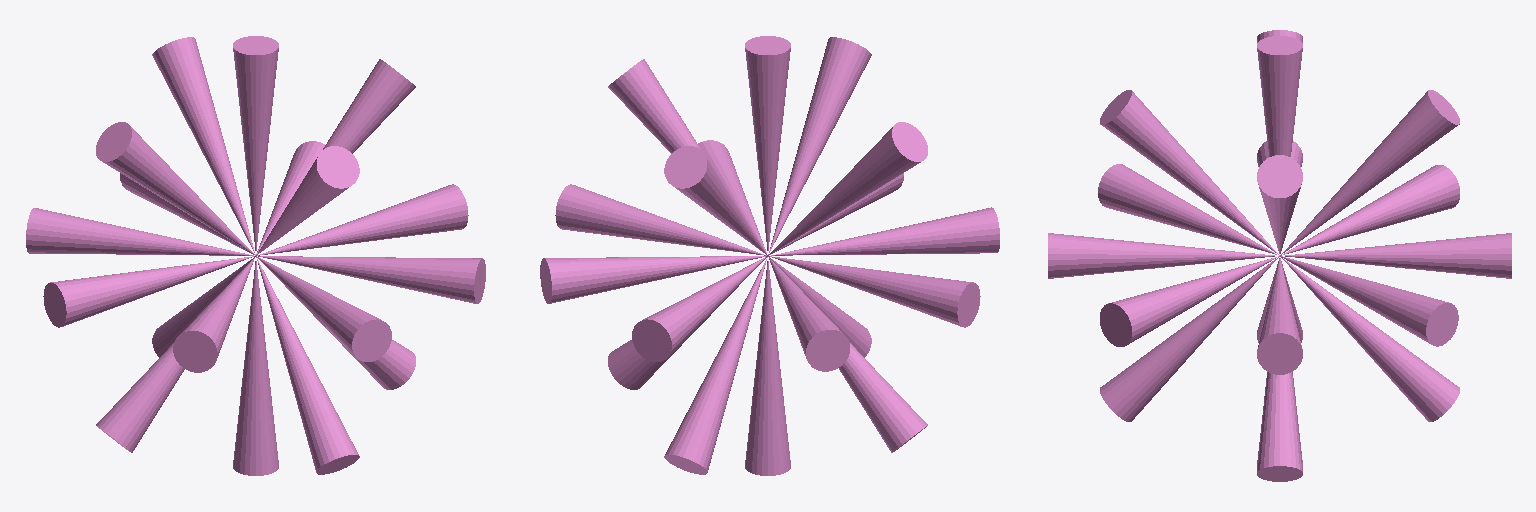
File: LightShine.obj
3 views of the same model, side by side, from view 1: azimuth 30°, elevation 25°; view 2: azimuth 150°, elevation 25°; view 3: azimuth 270°, elevation 25° (orthographic).
Parts seen in each view (by area): view 1: Cone001; view 2: Cone001; view 3: Cone001.
Boxes of the visible parts, box(x1,y1,x2,y2) form: Cone001: box(26, 36, 485, 475); Cone001: box(540, 36, 999, 475); Cone001: box(1048, 30, 1511, 481).
Bounding box in the file's own units: 200 × 200 × 200.